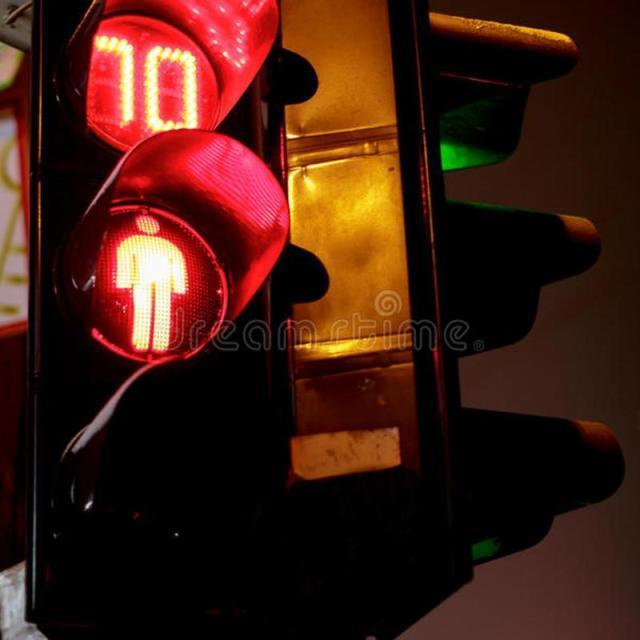red-crossing: (52, 181, 274, 364)
